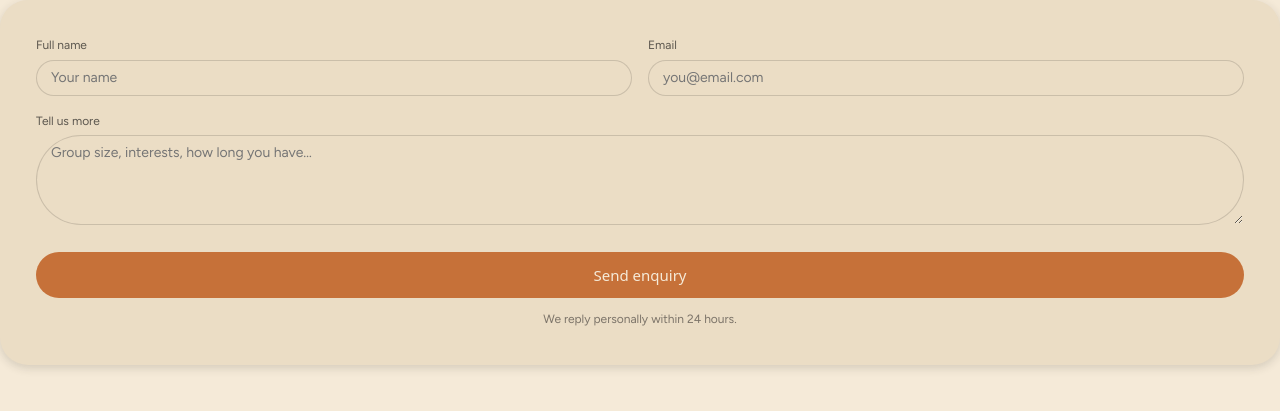
Test: GIVEN the API refuses the enquiry › WHEN the server rejects fields THEN shows them inline
The width and height of the screenshot is (1280, 411).
Step 1. Type "Ada Lovelace" into the field labelled "Full name" → (334, 78), box x1=36 y1=60 x2=632 y2=96
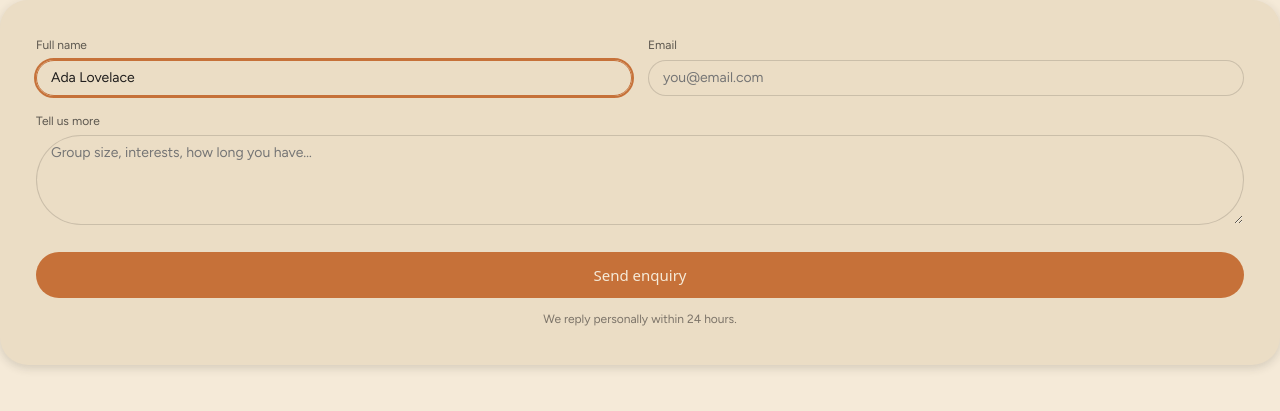
Step 2. Type "ada@example.com" into the field labelled "Email" → (946, 78), box x1=648 y1=60 x2=1244 y2=96
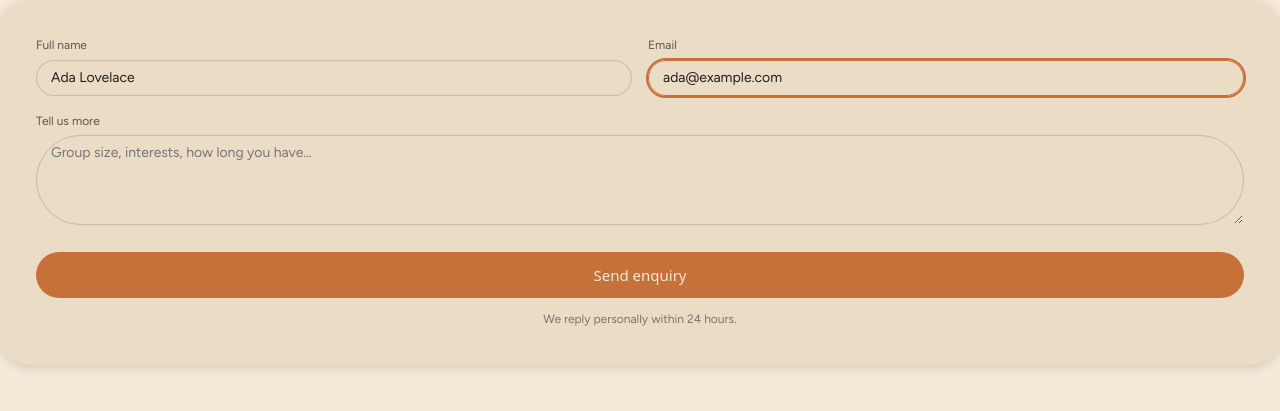
Step 3. Click the button "Send enquiry" → (640, 275), box x1=36 y1=252 x2=1244 y2=298
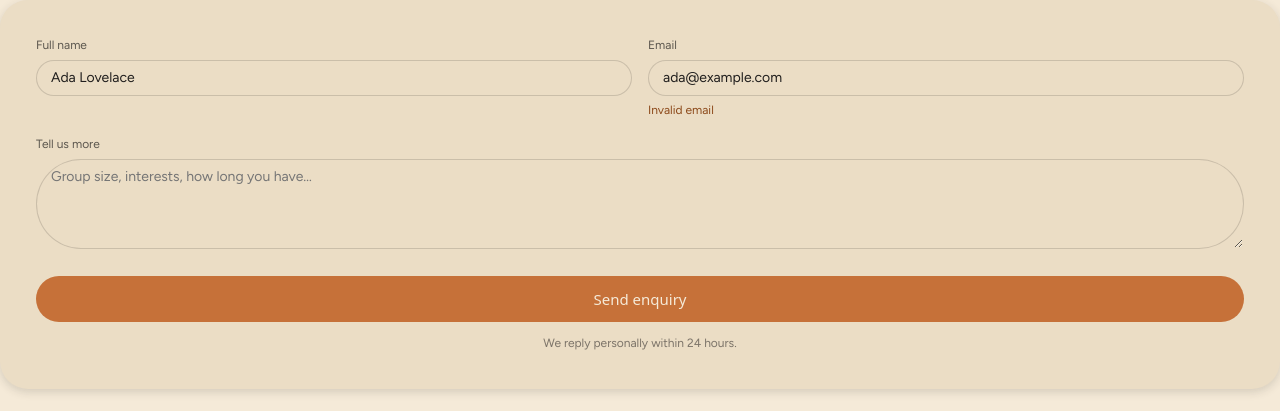
Expected: the text "Invalid email" is shown, x1=648 y1=103 x2=714 y2=117
